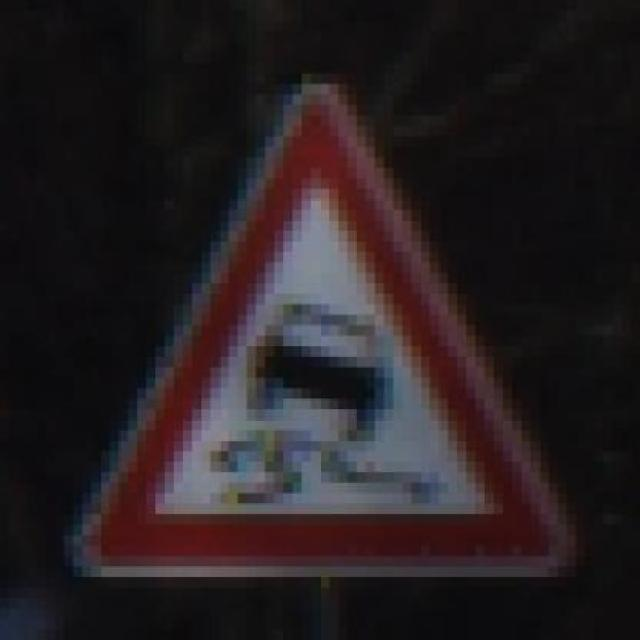Slippery Road Ahead: (46, 74, 594, 588)
